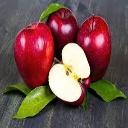apple: (48, 42, 91, 108)
